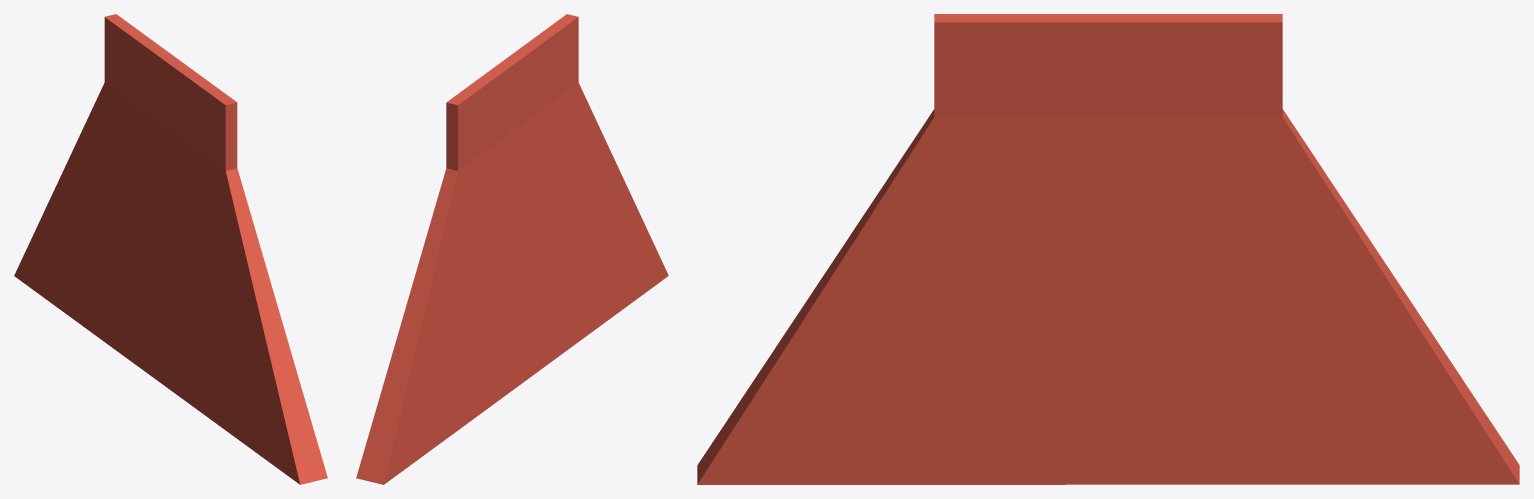
The model's file is Skirt_Orange.fbx.
The picture shows the model from 3 angles, left to right: view 1: azimuth 30°, elevation 25°; view 2: azimuth 150°, elevation 25°; view 3: azimuth 270°, elevation 25°; orthographic projection. The views are drawn at different scales.
Parts seen in each view (by area): view 1: Cube.027; view 2: Cube.027; view 3: Cube.027.
Part boxes in pixels (box(x1,y1,x2,y2)): Cube.027: box(14, 14, 327, 484); Cube.027: box(356, 14, 668, 484); Cube.027: box(697, 14, 1519, 484).
Size of the model in its own units: 13.24 by 143 by 233.
